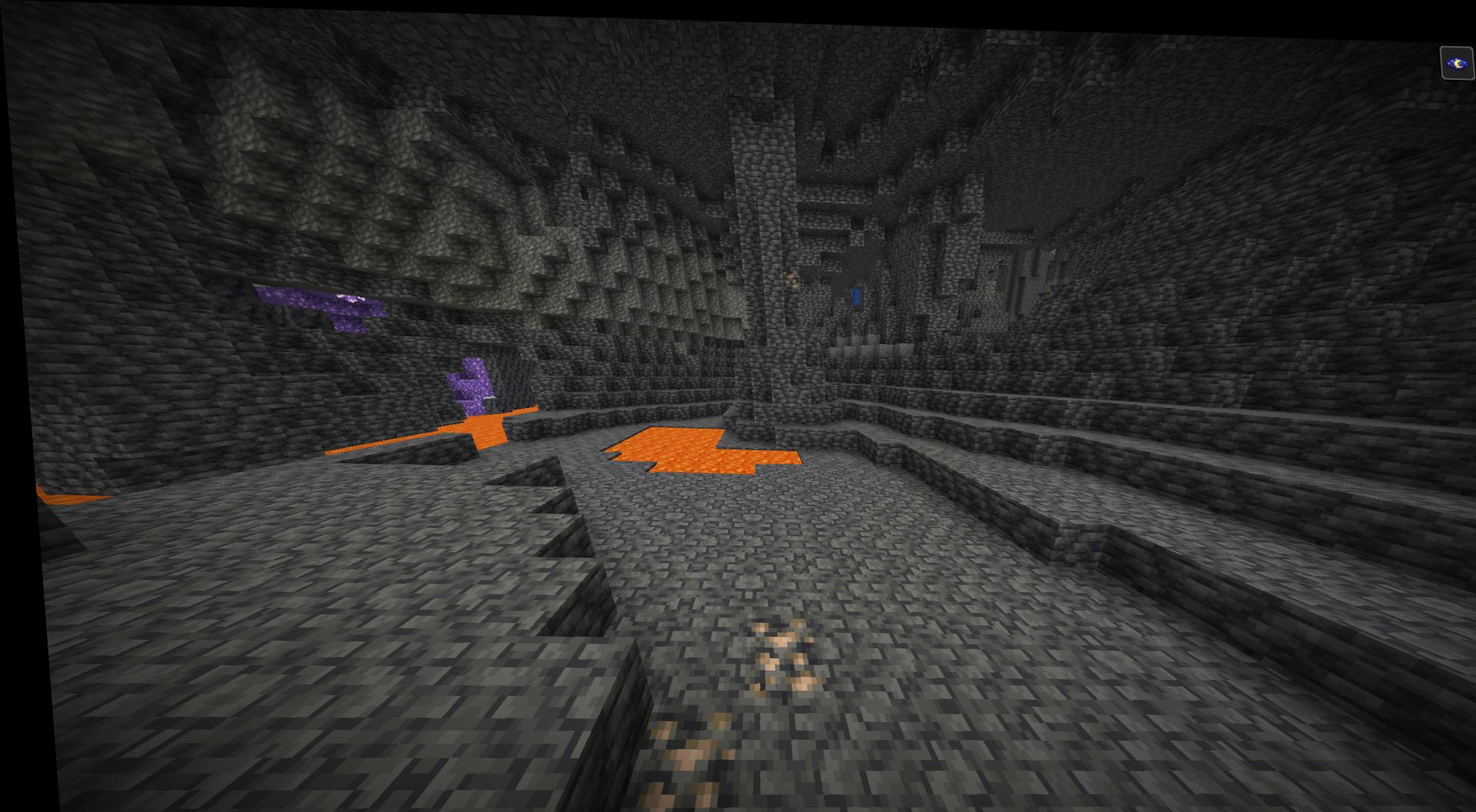iron ore: (612, 708, 730, 812), (730, 613, 814, 695)
